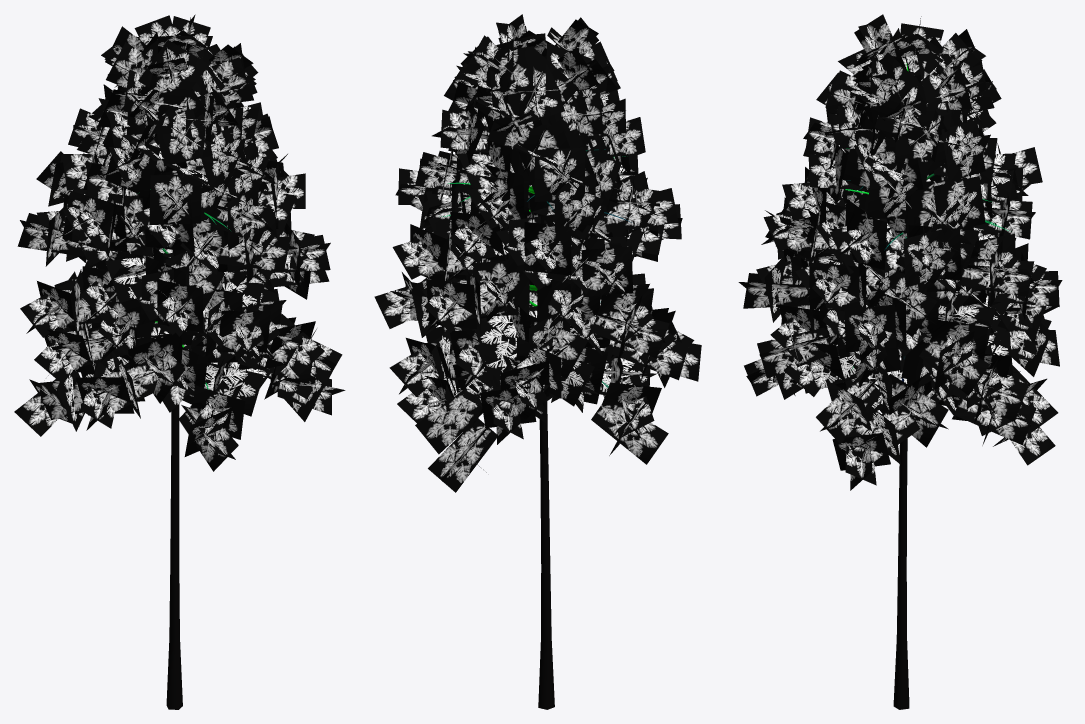
Rendered from Tree_Blender_005_WhitePine.fbx.
The picture shows the model from 3 angles, left to right: view 1: azimuth 30°, elevation 25°; view 2: azimuth 150°, elevation 25°; view 3: azimuth 270°, elevation 25°; orthographic projection.
Visible parts, largest first — view 1: leafclumpatlas_whitepine_1, _0; view 2: leafclumpatlas_whitepine_1, _0; view 3: leafclumpatlas_whitepine_1, _0.
Boxes of the visible parts, x1,y1,x2,y2 form: leafclumpatlas_whitepine_1: (14, 14, 345, 471); _0: (138, 189, 230, 709); leafclumpatlas_whitepine_1: (374, 14, 701, 492); _0: (439, 149, 631, 709); leafclumpatlas_whitepine_1: (738, 14, 1062, 490); _0: (845, 63, 1008, 709).
Bounding box in the file's own units: 789 × 1800 × 795.
